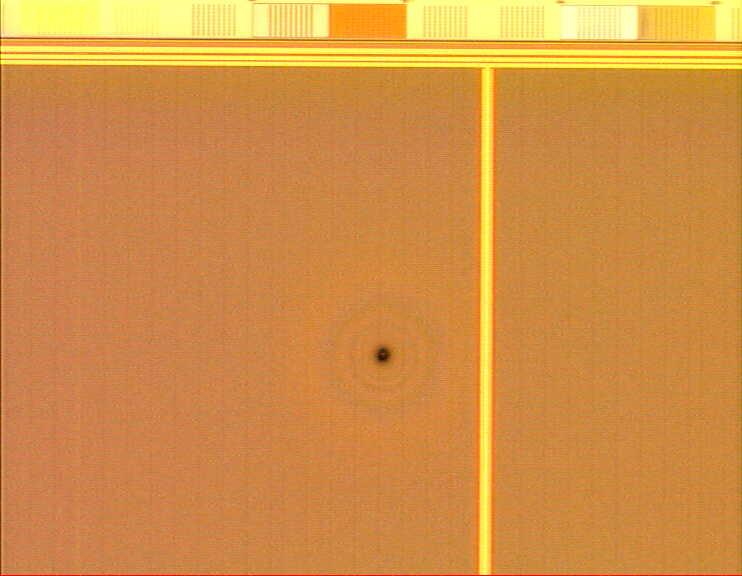PIQ PARTICLE: (357, 329, 409, 381)
